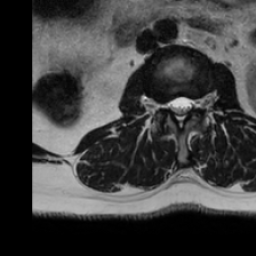CCS_normal: (176, 93, 184, 131)
LFS_normal: (195, 91, 202, 116)
LLS_normal: (185, 93, 193, 119)
RFS_severe_stenosis: (159, 97, 168, 116)
RLS_normal: (168, 94, 177, 120)
